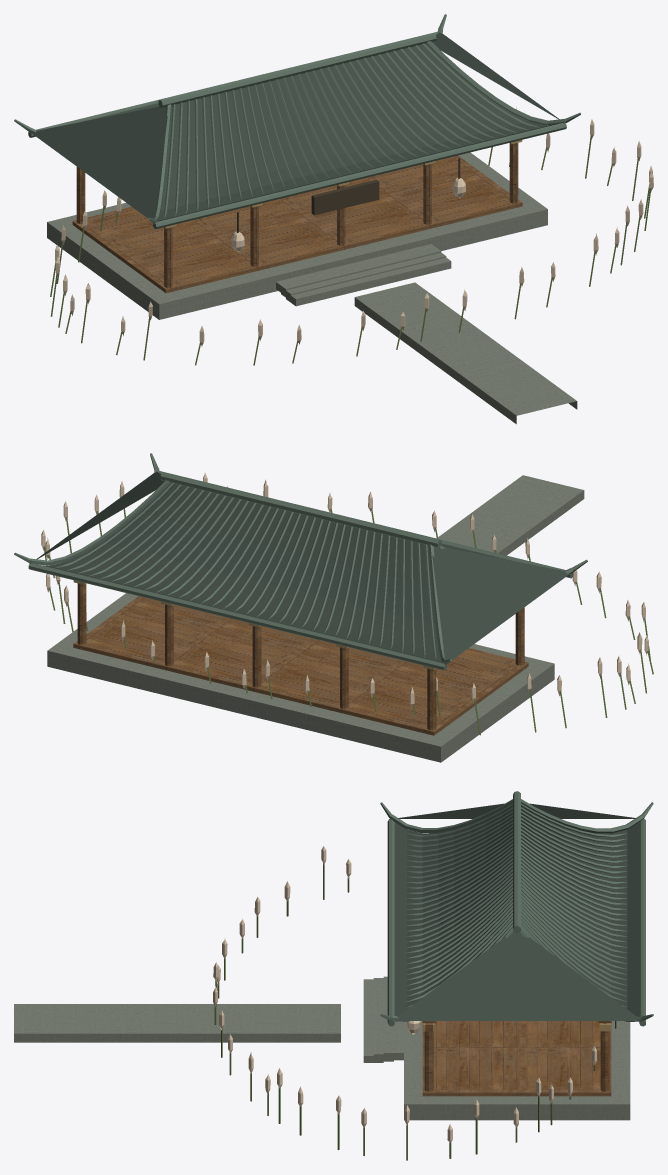
File: luxuean.glb
The picture shows the model from 3 angles, top to bottom: view 1: azimuth 30°, elevation 25°; view 2: azimuth 150°, elevation 25°; view 3: azimuth 270°, elevation 25°; orthographic projection.
Visible parts, largest first — view 1: luxuean_roof, luxuean_stone, luxuean_wood, luxuean_tile, luxuean_creamflower, luxuean_bamboo, luxuean_darkwood; view 2: luxuean_roof, luxuean_wood, luxuean_stone, luxuean_tile, luxuean_creamflower, luxuean_bamboo; view 3: luxuean_roof, luxuean_tile, luxuean_stone, luxuean_wood, luxuean_creamflower, luxuean_bamboo.
Boxes of the visible parts, x1,y1,x2,y2 form: luxuean_roof: (32,32,559,221); luxuean_stone: (47,152,577,424); luxuean_wood: (72,143,522,293); luxuean_tile: (14,14,580,228); luxuean_creamflower: (55,107,653,346); luxuean_bamboo: (50,135,650,365); luxuean_darkwood: (237,158,460,232); luxuean_roof: (36,472,569,663); luxuean_wood: (73,583,528,735); luxuean_stone: (47,475,584,762); luxuean_tile: (14,453,587,670); luxuean_creamflower: (41,472,648,707); luxuean_bamboo: (44,508,653,735); luxuean_roof: (394,803,640,1021); luxuean_tile: (380,791,653,1026); luxuean_stone: (14,976,630,1120); luxuean_wood: (422,1021,611,1096); luxuean_creamflower: (213,846,596,1142); luxuean_bamboo: (214,863,616,1160).
Size of the model in its own units: 26.42 by 7.43 by 25.44.
Materials: 8 (2 with a texture image).
